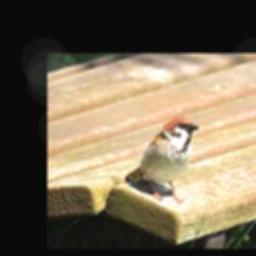Sparrow: (125, 118, 198, 203)
